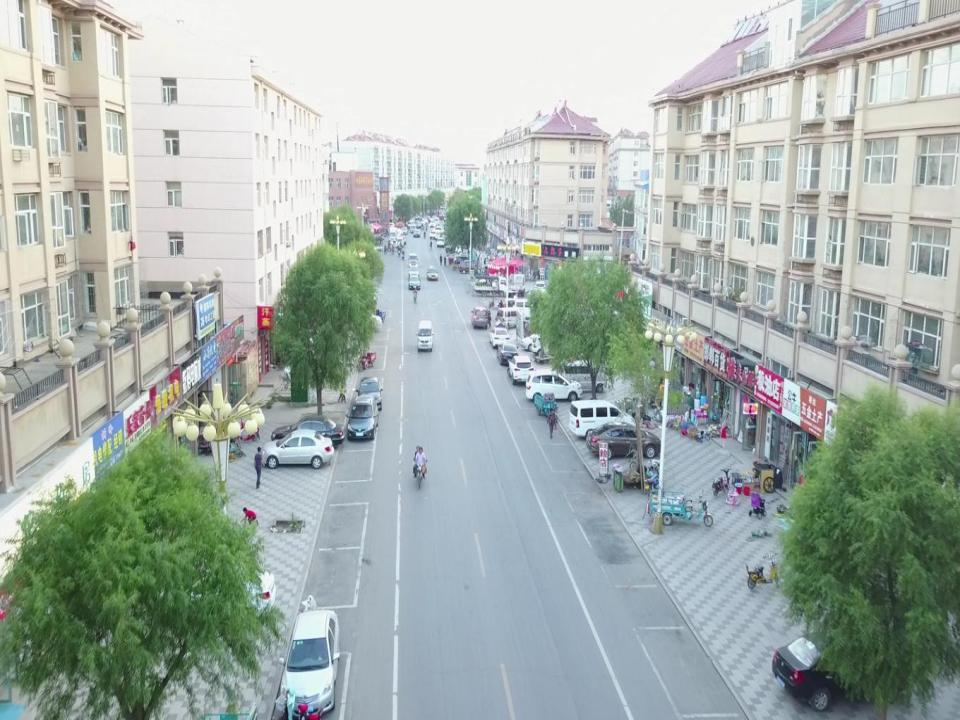car: (772, 632, 908, 712), (278, 610, 340, 718), (185, 560, 275, 617), (260, 429, 334, 469), (586, 422, 662, 460), (271, 415, 345, 448), (346, 394, 379, 442), (355, 376, 383, 412), (531, 334, 566, 357), (507, 356, 534, 385), (521, 332, 556, 351), (497, 342, 519, 365), (489, 328, 510, 348), (534, 280, 547, 295), (408, 276, 421, 290), (407, 266, 420, 280), (528, 288, 541, 302), (481, 264, 496, 276), (453, 256, 472, 265), (426, 266, 438, 280), (446, 244, 458, 253), (455, 245, 468, 253), (437, 239, 445, 248)
truck: (473, 276, 510, 297), (508, 274, 525, 296)
van: (568, 399, 636, 441), (526, 370, 582, 402), (560, 360, 607, 393), (504, 297, 543, 319), (496, 307, 524, 329), (416, 320, 434, 352), (471, 306, 488, 329), (523, 322, 540, 343), (460, 260, 480, 274), (408, 253, 419, 268), (395, 237, 404, 249)
